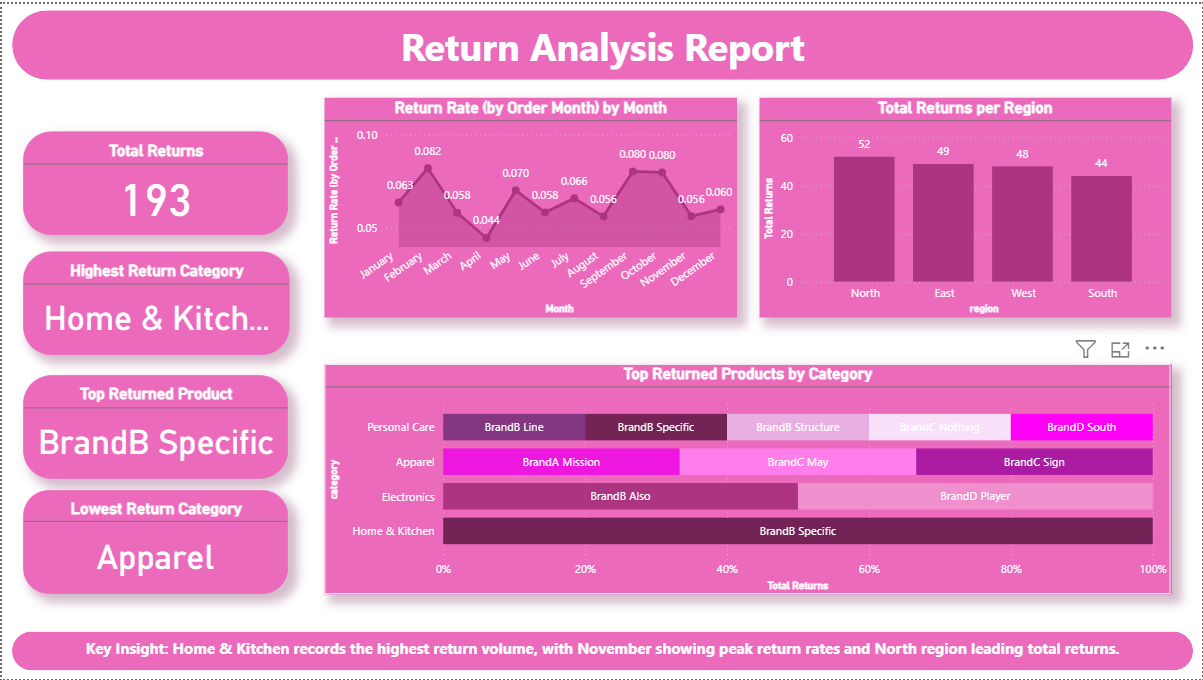

What the dashboard file says about the page in this screenshot:
{"tool":"powerbi","page":{"name":"Return Analysis Report ","canvas":[1280,720],"ordinal":4},"visuals":[{"type":"areaChart","fields":{"Y":["Cleaned Customers.Return Rate"],"Category":["DateTable.Date.Variation.Date Hierarchy.Month"]},"box":[367.1,100,439.5,235.5],"z":0},{"type":"card","title":"Total Returns","fields":{"Values":["Cleaned Returns.Total Returns"]},"box":[53.8,133.3,282.5,110.1],"z":1000},{"type":"shape","box":[10.8,6.7,1260.1,74.1],"z":2000},{"type":"shape","box":[10.4,668.8,1259.7,41.6],"z":3000},{"type":"columnChart","title":" Total Returns per Region ","fields":{"Category":["Cleaned Customers.region"],"Y":["Cleaned Returns.Total Returns"]},"box":[831.2,100,439,235.1],"z":4000},{"type":"card","title":"Highest Return Category","fields":{"Values":["Cleaned Customers.Highest Return Category"]},"box":[53.8,262.9,283.7,110.1],"z":5000},{"type":"card","title":"Top Returned Product","fields":{"Values":["Cleaned Customers.Top Returned Product"]},"box":[53.8,390.1,282.5,110.1],"z":6000},{"type":"card","title":"Lowest Return Category","fields":{"Values":["Cleaned Customers.Lowest Return Category"]},"box":[53.8,518.5,282.5,110.1],"z":7000},{"type":"hundredPercentStackedBarChart","title":"Top Returned Products by Category ","fields":{"Category":["Cleaned Products.category"],"Y":["Cleaned Returns.Total Returns"],"Series":["Cleaned Products.product_name"]},"box":[367,383,903,235],"z":8000}]}

Visuals, with their boxes in screenshot pixels (x1, y1, x2, y2), scaled from the page's 1280x720 canvas onto the 1203x680 screenshot:
areaChart - Cleaned Customers.Return Rate x DateTable.Date.Variation.Date Hierarchy.Month: box(345, 94, 758, 317)
"Total Returns" card: box(51, 126, 316, 230)
shape: box(10, 6, 1194, 76)
shape: box(10, 632, 1194, 671)
" Total Returns per Region " columnChart: box(781, 94, 1194, 316)
"Highest Return Category" card: box(51, 248, 317, 352)
"Top Returned Product" card: box(51, 368, 316, 472)
"Lowest Return Category" card: box(51, 490, 316, 594)
"Top Returned Products by Category " hundredPercentStackedBarChart: box(345, 362, 1194, 584)
